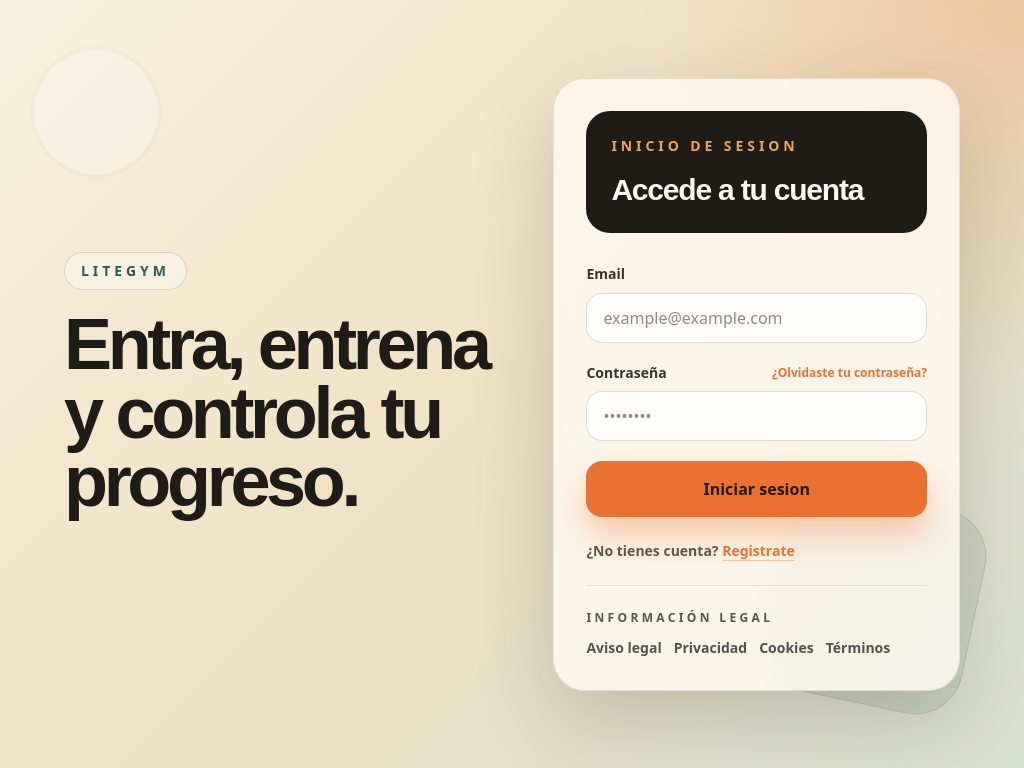
Test case: LoginPage › logs in, sends credentials with cookies enabled and notifies success
Type " Raul@Example.com " into the field labelled "Email" at (757, 318), box [586,292,927,342]
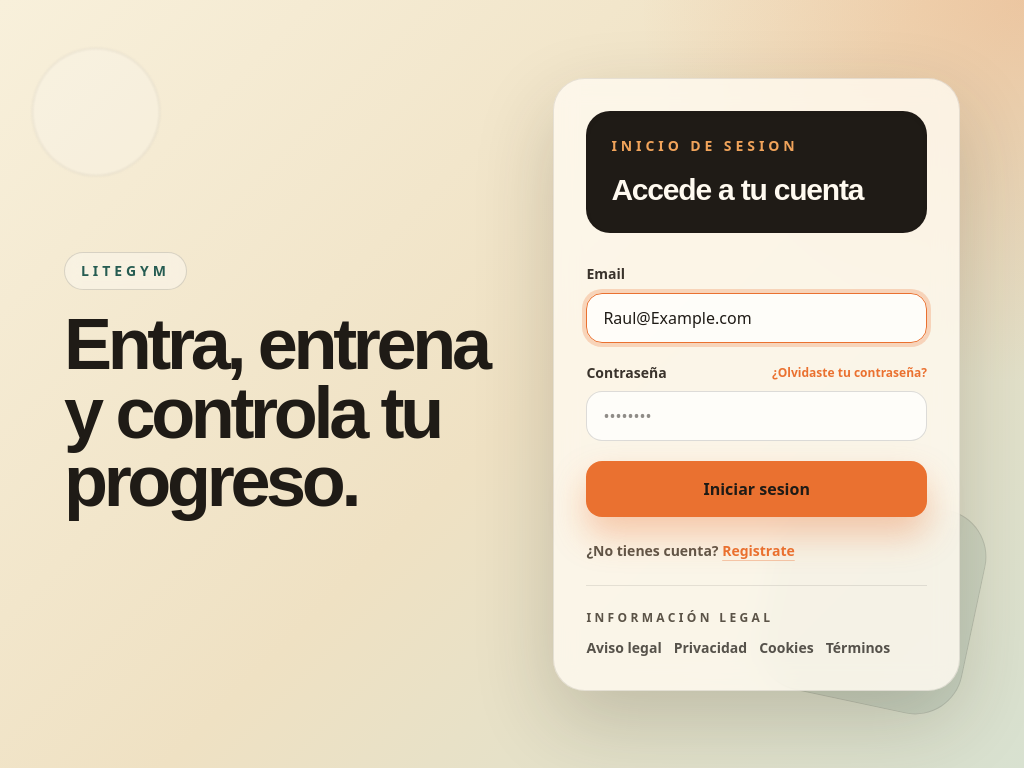
Type "secret123" into the password field with placeholder "••••••••" at (757, 416), box [586,390,927,440]
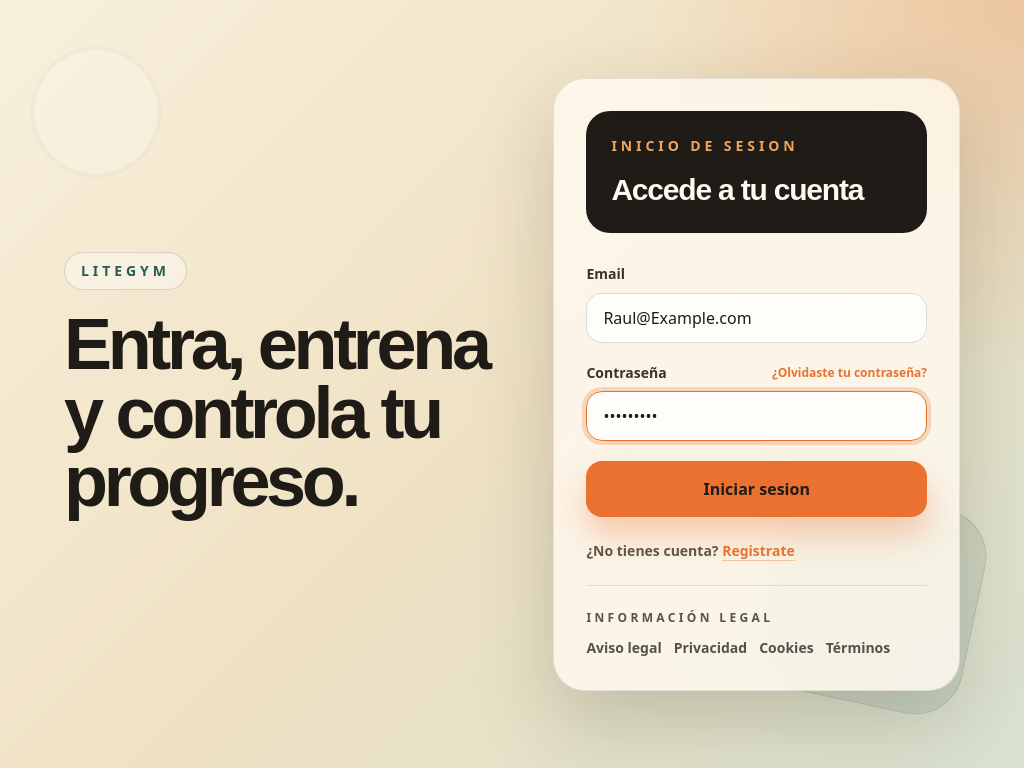
Click the button "Iniciar sesion" at (757, 488), box [586,460,927,516]
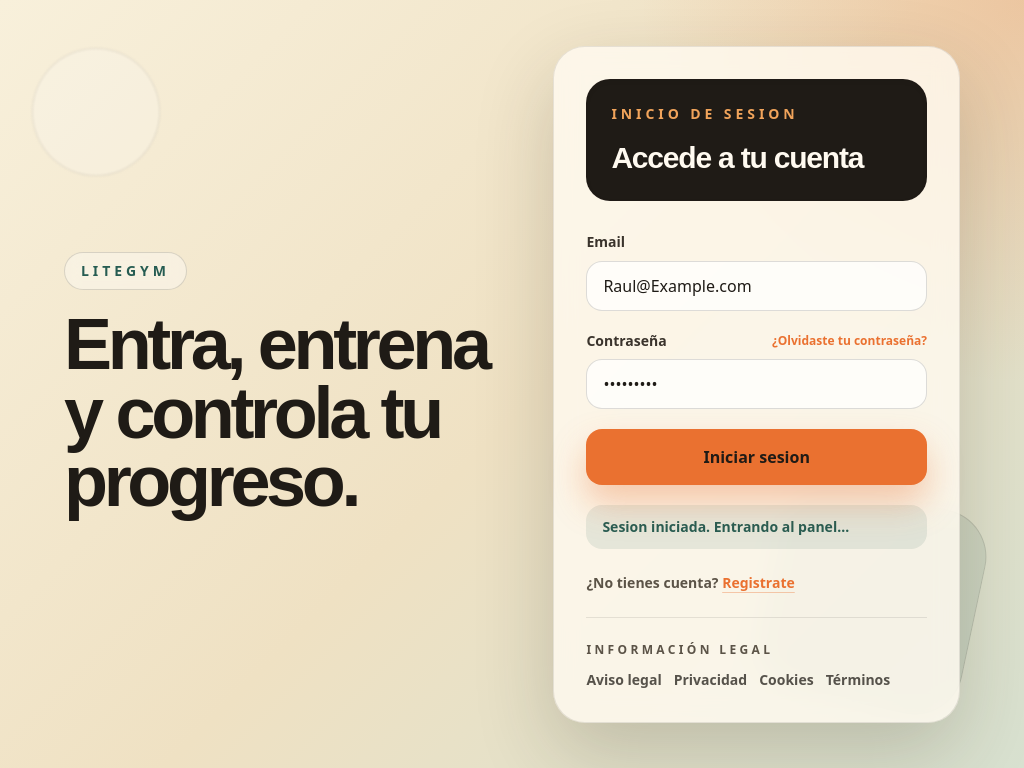
Expected: the text "Sesion iniciada. Entrando al panel..." is shown, [602,516,849,536]
